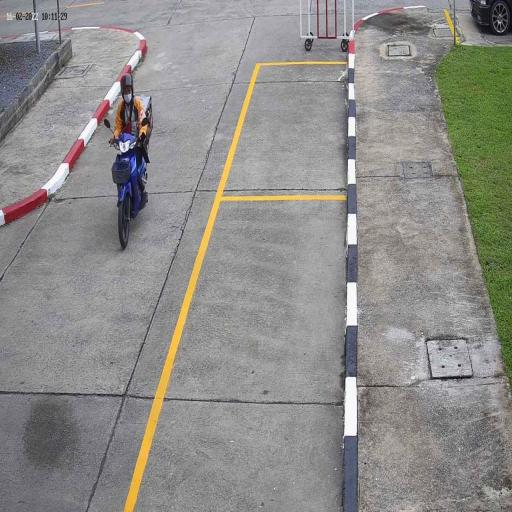motorcycle: (108, 131, 150, 251)
